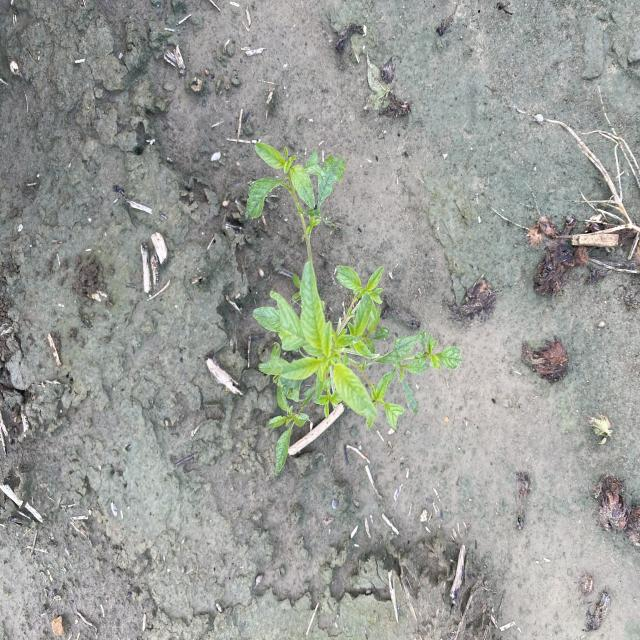Waterhemp: (245, 140, 465, 479)
